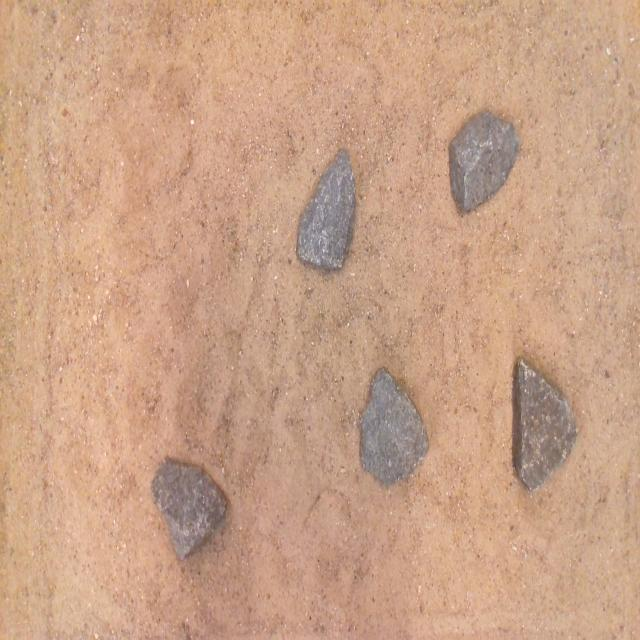rock: (512, 359, 577, 489), (361, 367, 428, 485), (152, 459, 226, 559), (449, 111, 519, 211), (297, 149, 355, 268)
